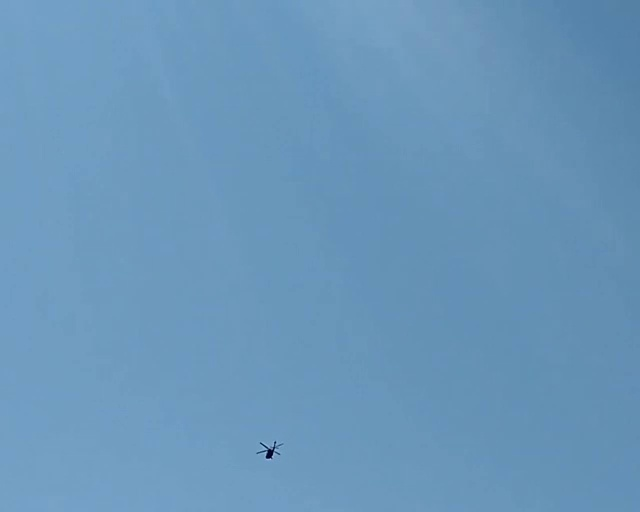HELICOPTER: (257, 439, 284, 459)
